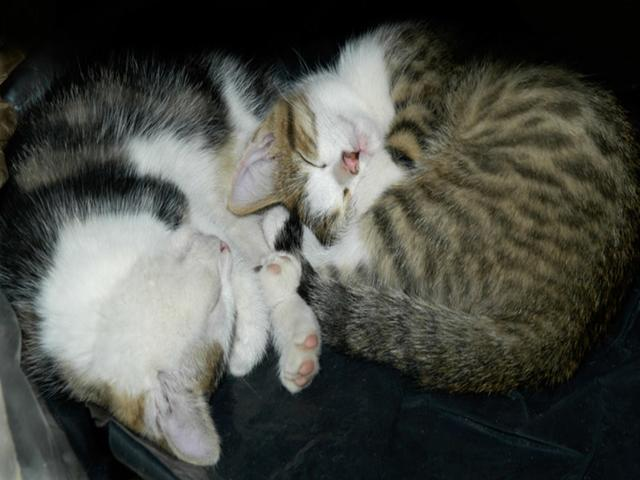cat: (222, 32, 592, 339), (9, 52, 264, 464)
